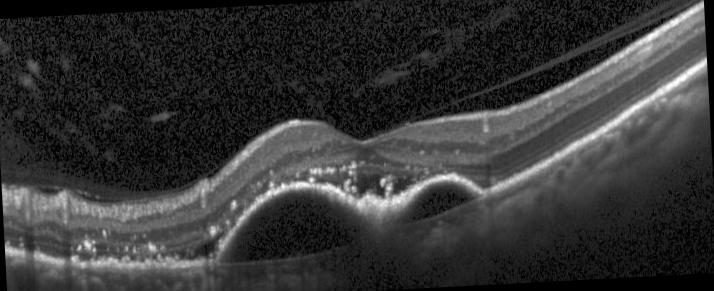neuroepithelium_detachment: (317, 173, 418, 194), (169, 232, 223, 259)
subretinal_fluid: (230, 190, 370, 264), (411, 186, 471, 221)
subretinal_hyperreflective_material: (358, 194, 402, 221)
vitreomacular_traction: (389, 0, 697, 129), (2, 150, 238, 196)
